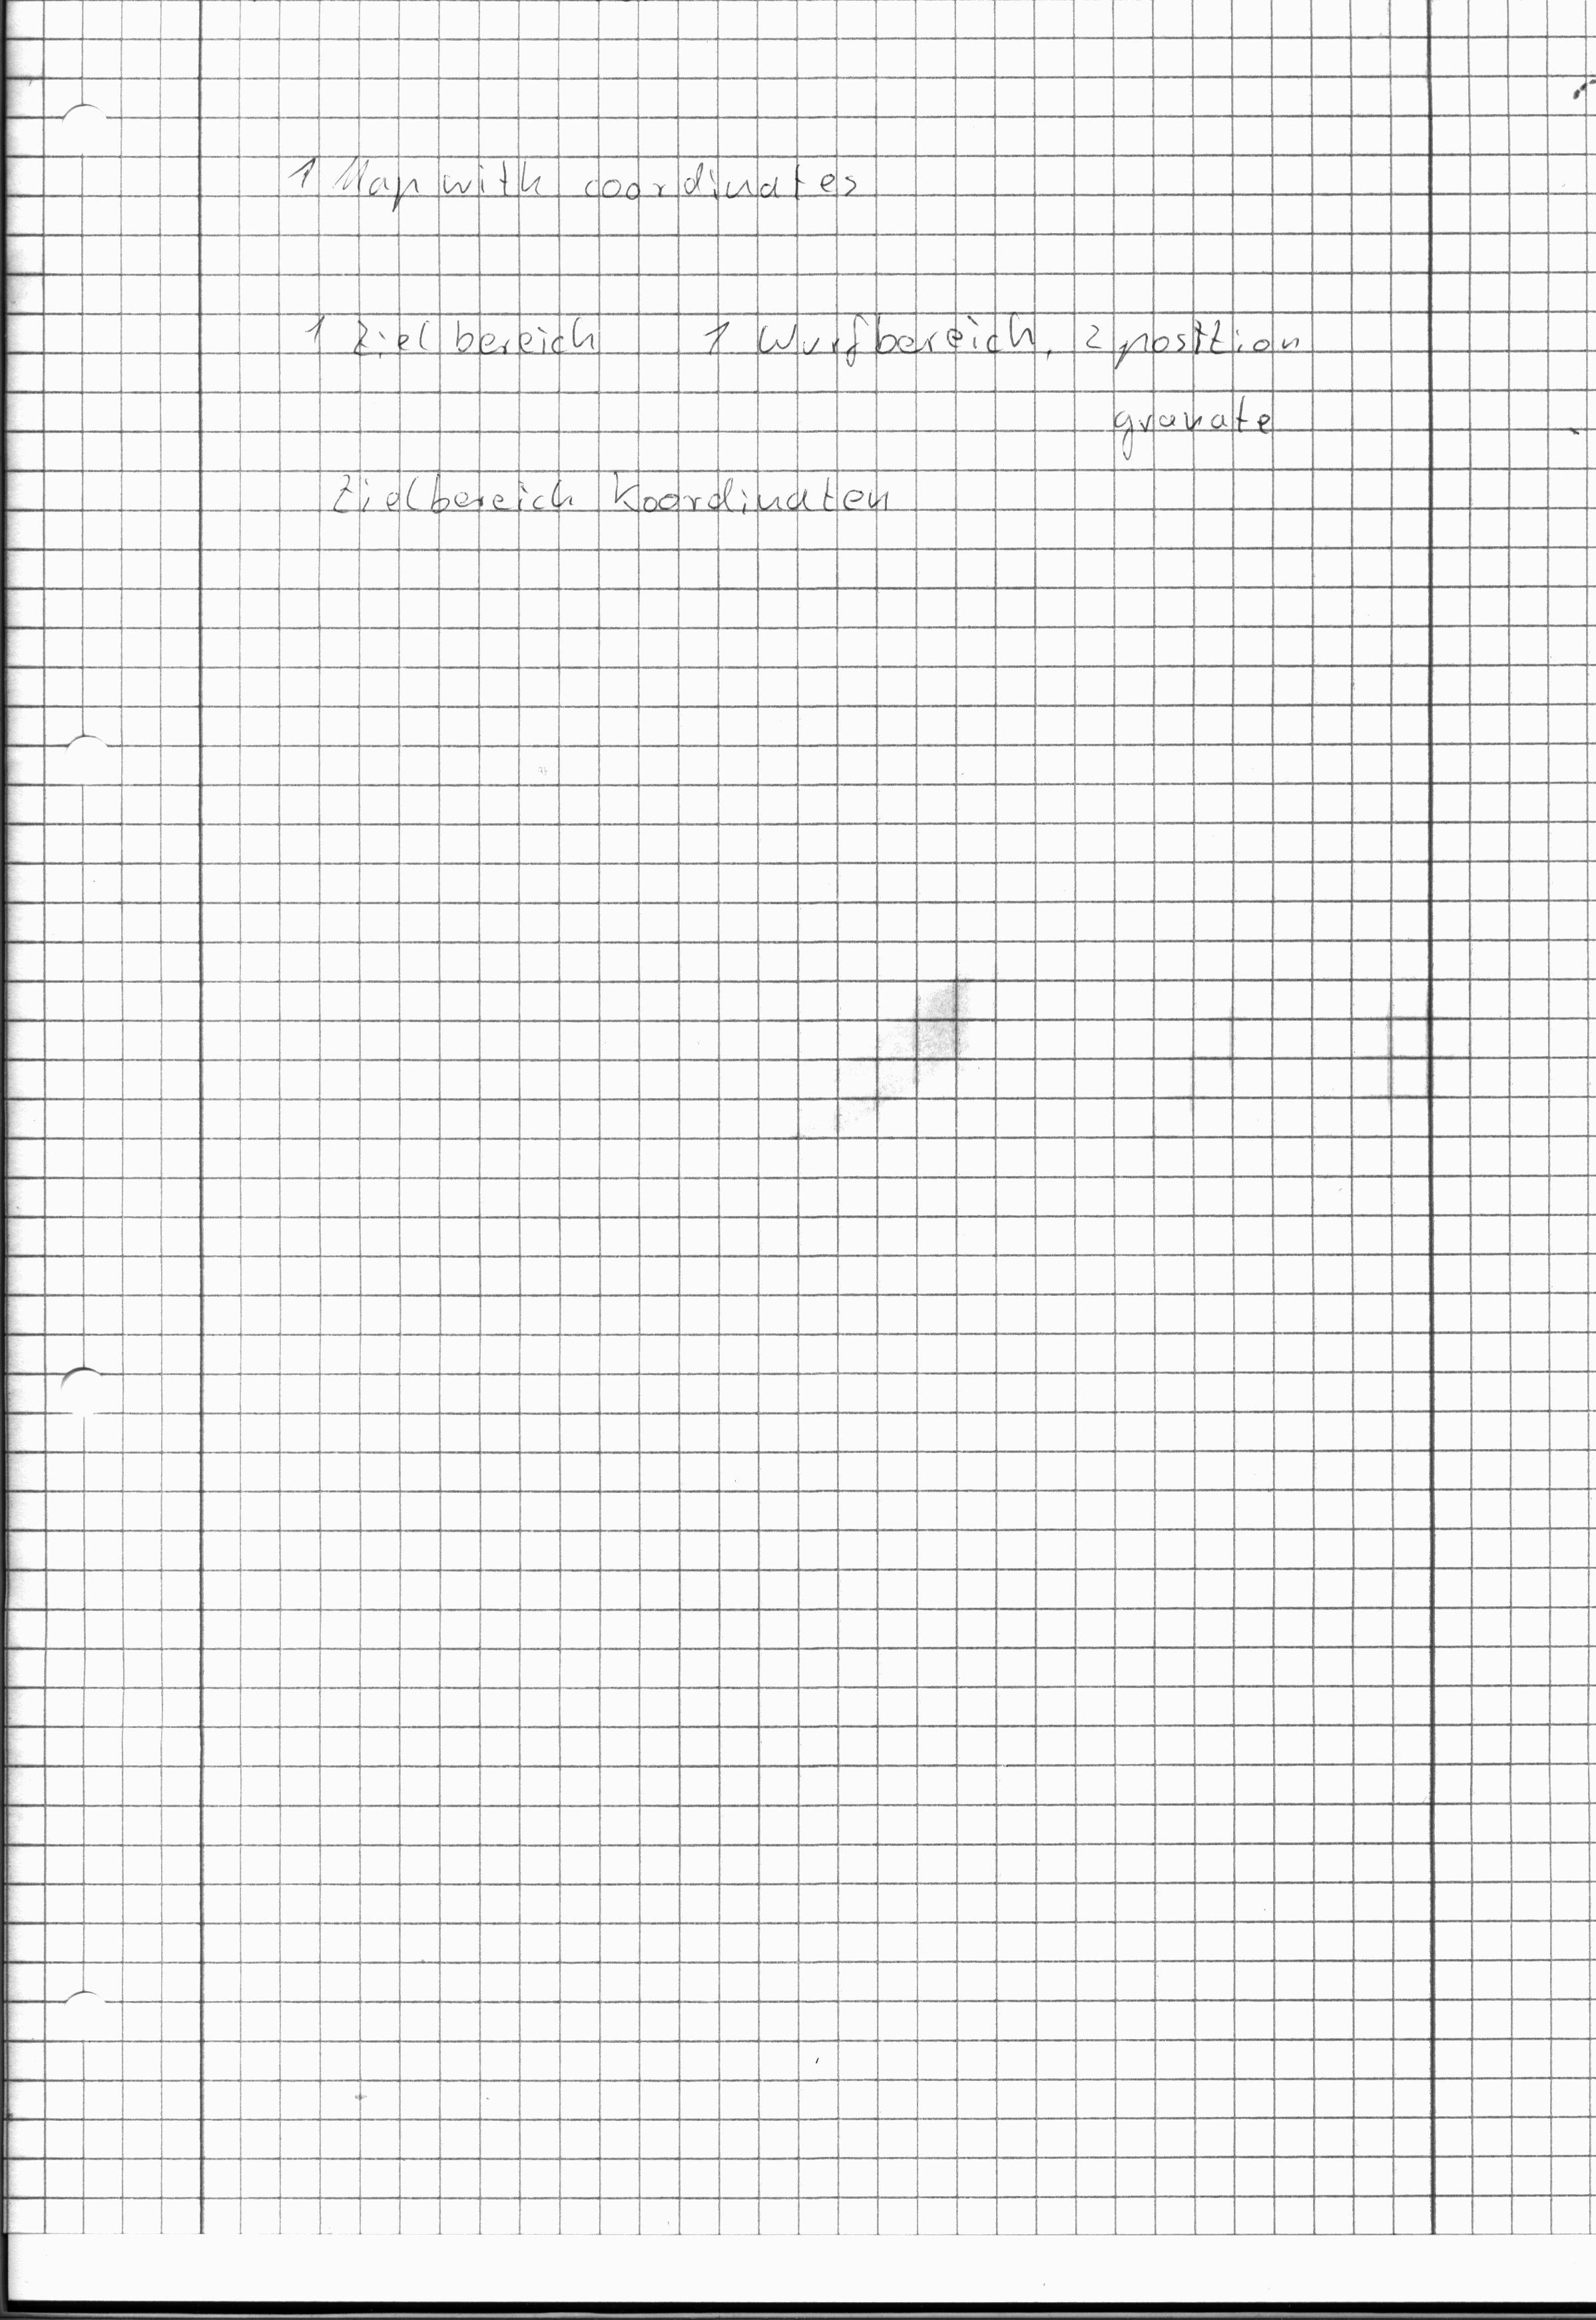word: (278, 137, 866, 226), (319, 452, 904, 533), (1068, 300, 1316, 475), (687, 294, 1059, 378), (297, 292, 609, 372)
